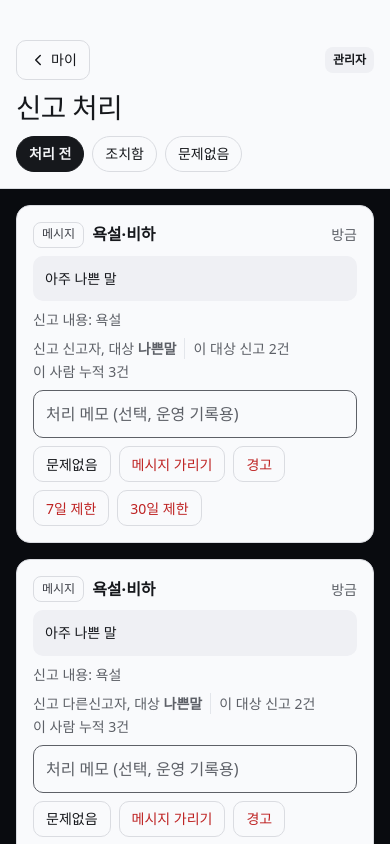
관리자 신고 처리 › 메시지 신고에는 가리기가 있고, 처리하면 같은 대상 신고가 목록에서 함께 빠진다
The width and height of the screenshot is (390, 844).
Expected: the text "아주 나쁜 말" is shown 2 times, left=33, top=256, right=357, bottom=302; left=33, top=610, right=357, bottom=656
Click the 1st button "메시지 가리기".
click(172, 464)  # box left=118, top=446, right=225, bottom=482
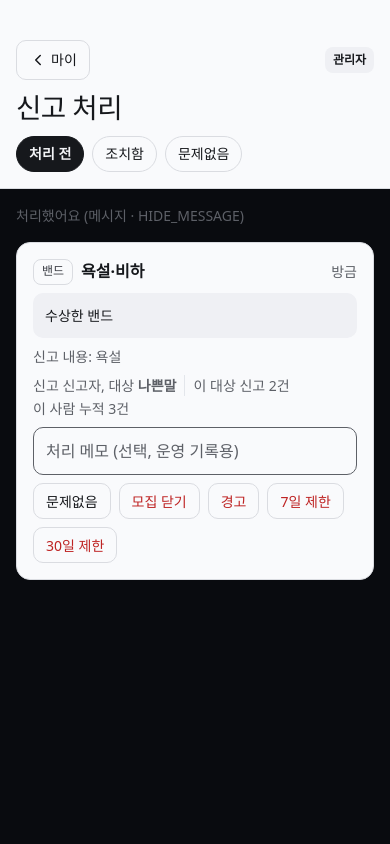
Expected: the text "수상한 밴드" is shown, left=33, top=293, right=357, bottom=338
Expected: the text "아주 나쁜 말" is gone
